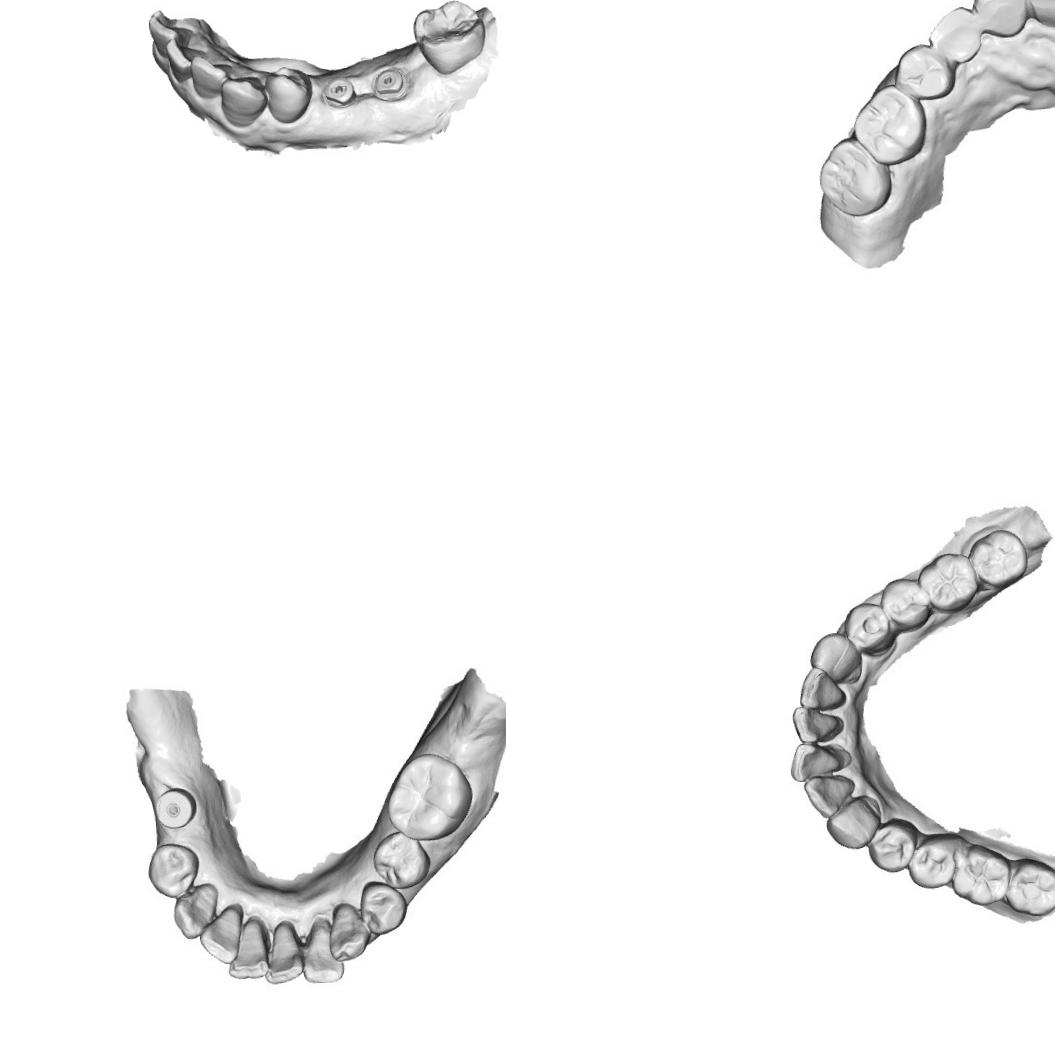canine: (926, 2, 985, 66), (823, 797, 881, 852), (170, 881, 222, 942), (807, 628, 862, 682), (216, 72, 268, 129), (326, 898, 369, 962)
implant: (154, 784, 200, 832), (369, 62, 410, 103)
implant_minus: (319, 73, 357, 110)
incisor: (297, 917, 346, 985), (224, 915, 270, 981), (262, 918, 307, 985), (196, 909, 247, 966), (787, 738, 847, 784), (802, 773, 854, 819), (189, 51, 236, 100), (146, 12, 196, 58), (796, 665, 846, 710), (970, 0, 1028, 38), (789, 702, 838, 746), (165, 36, 209, 83), (1024, 0, 1055, 30)
molar: (381, 748, 476, 842), (848, 81, 930, 168), (814, 133, 895, 220), (408, 0, 488, 78), (948, 842, 1012, 907), (915, 550, 981, 611), (968, 527, 1030, 589), (1002, 857, 1055, 918)
premolar: (890, 40, 956, 101), (370, 829, 433, 891), (144, 840, 200, 900), (262, 62, 314, 126), (880, 574, 936, 631), (904, 833, 959, 891), (840, 599, 894, 657), (866, 816, 916, 876), (358, 878, 408, 936)
